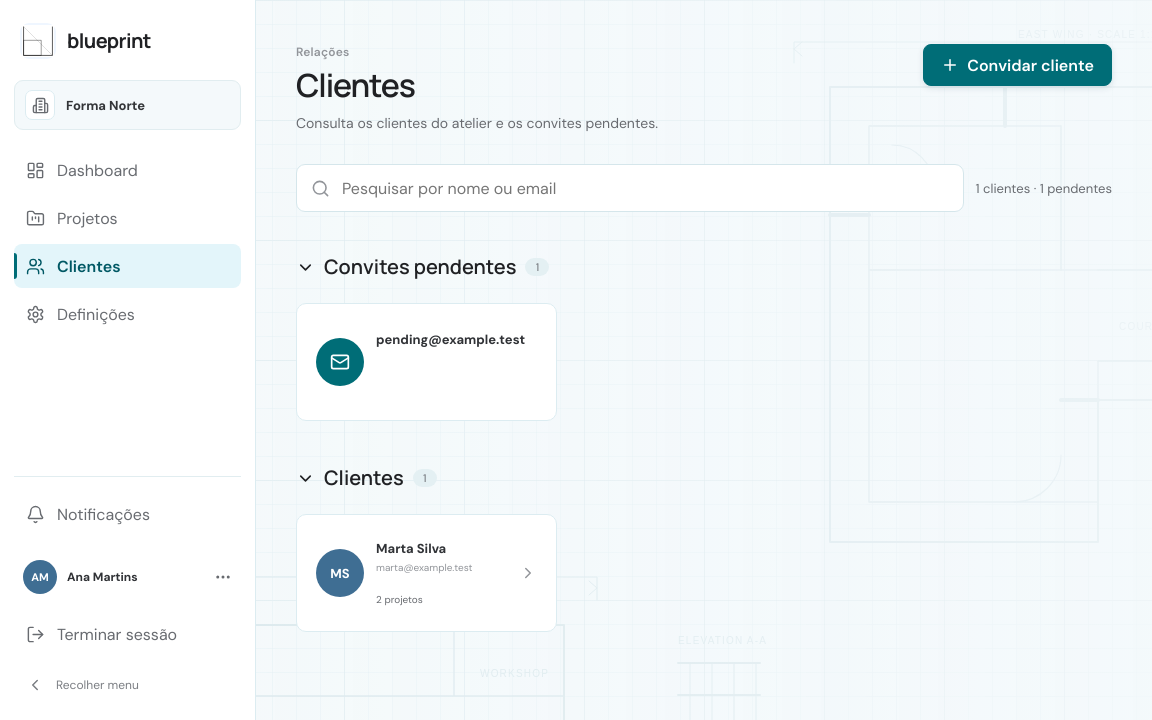
CompanyClientPage › shows pending invitations first in initially expanded collapsible groups
Expected: the text "pending@example.test" is shown, [376,330,525,348]
Expected: the button "MS Marta Silva marta@example.test 2 projetos" is shown, [296,514,557,632]
Click the button "Convites pendentes 1" at (420, 266), box [296,246,1112,288]
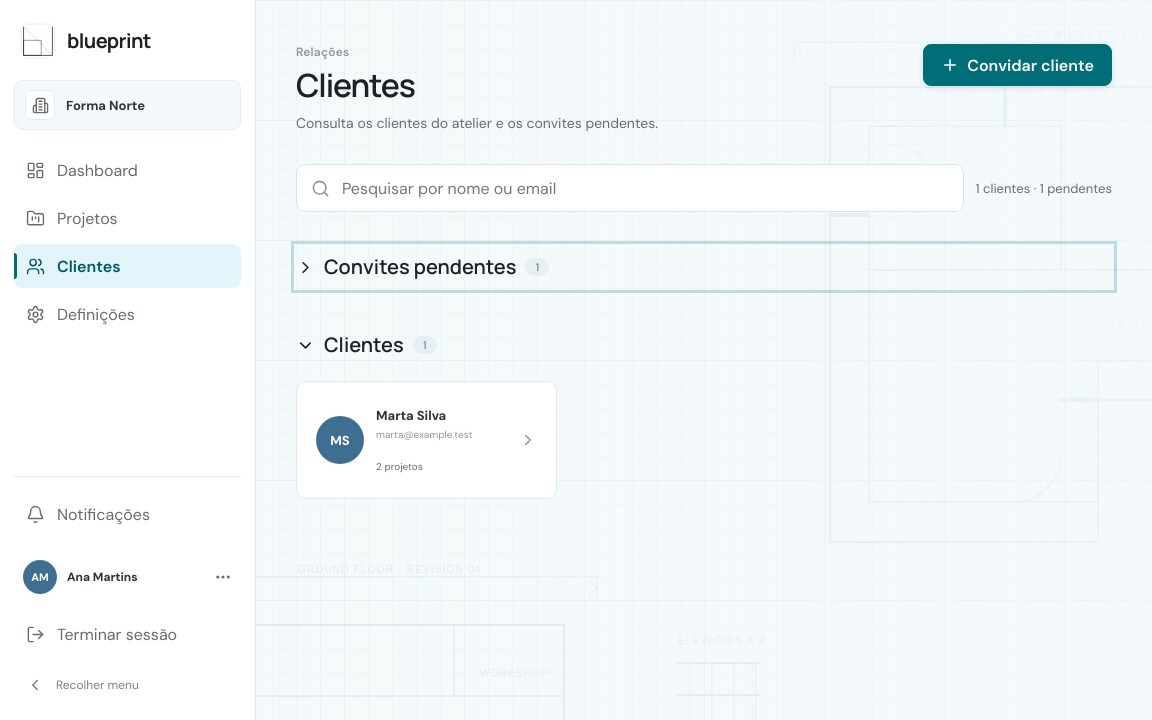
Result: the button "Convites pendentes 1" is collapsed at [296,246,1112,288]
Result: the text "pending@example.test" is gone
